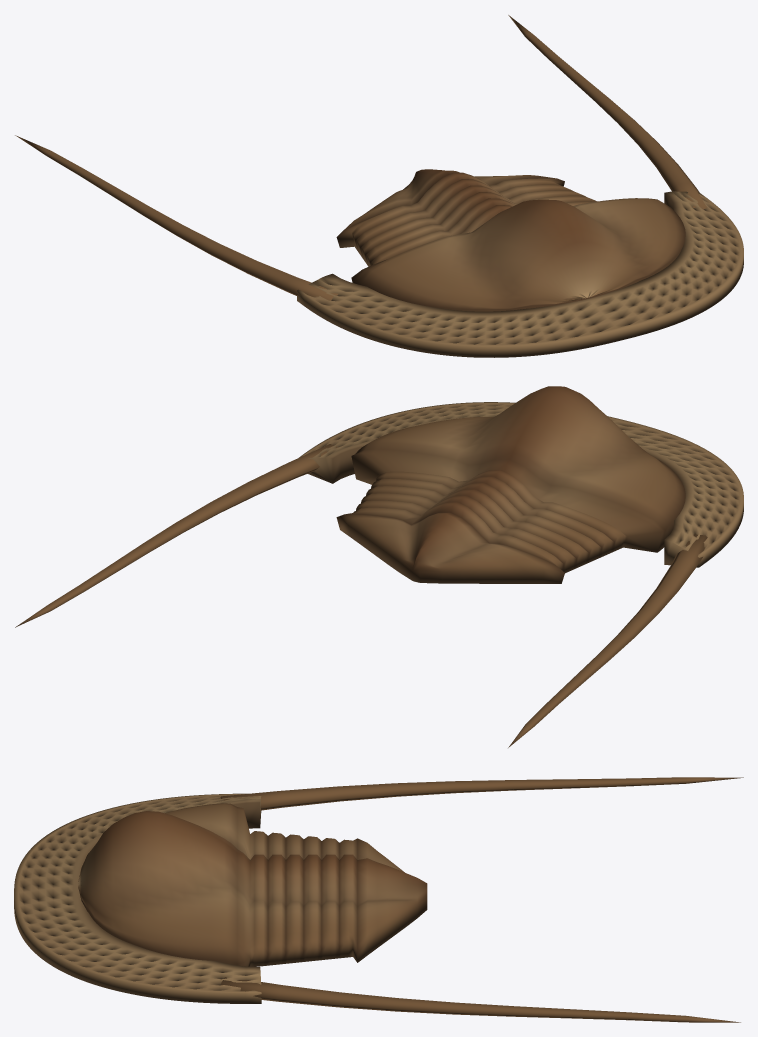
File: TrinucleusFimbriatus.fbx
3 renders of one model, top to bottom at view 1: azimuth 30°, elevation 25°; view 2: azimuth 150°, elevation 25°; view 3: azimuth 270°, elevation 25°, orthographic.
Visible parts, largest first — view 1: TrinucleusFimbriatus; view 2: TrinucleusFimbriatus; view 3: TrinucleusFimbriatus.
Boxes of the visible parts, x1,y1,x2,y2 form: TrinucleusFimbriatus: (15,15,743,357); TrinucleusFimbriatus: (15,386,743,747); TrinucleusFimbriatus: (14,777,743,1022).
Bounding box in the file's own units: 1.08 × 0.1987 × 1.36.
